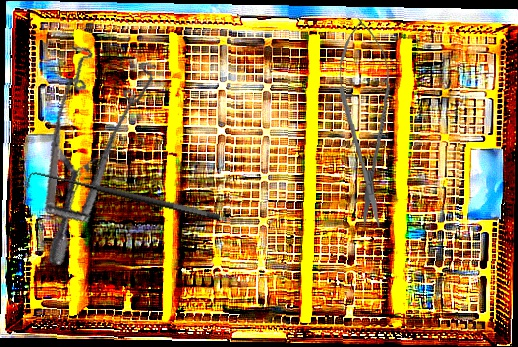Hook Surgical: (24, 164, 221, 236)
Micro Scissor: (333, 16, 399, 231)
Speculum: (9, 31, 190, 267)
